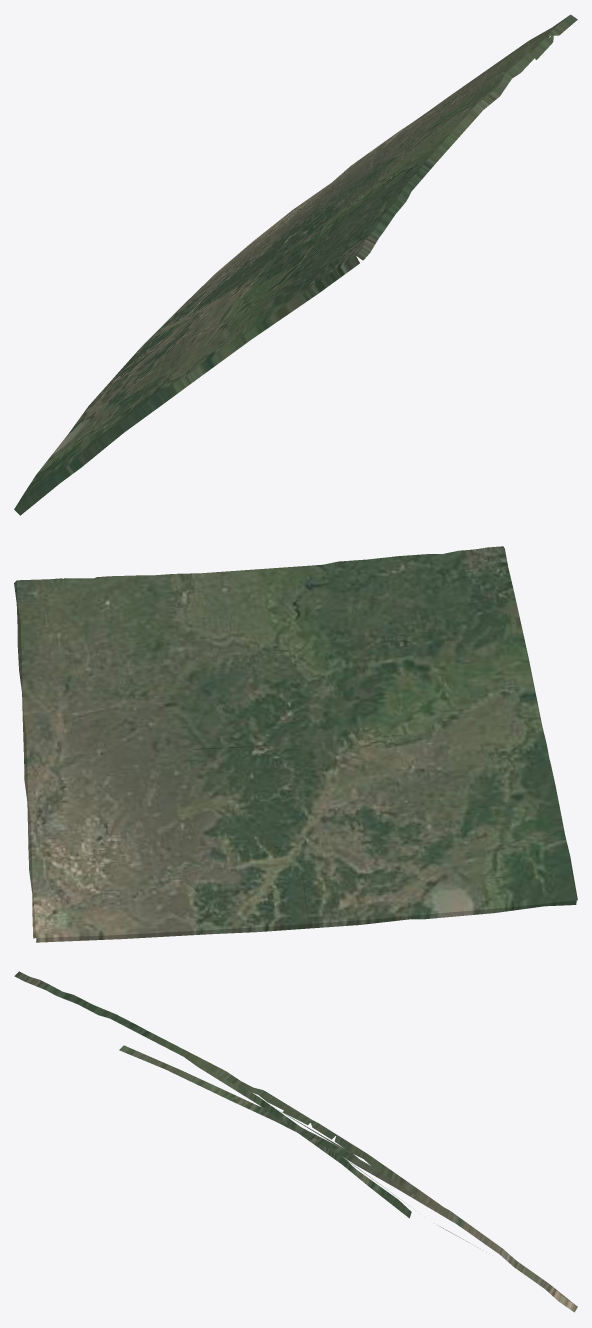
The picture shows the model from 3 angles, top to bottom: view 1: azimuth 30°, elevation 25°; view 2: azimuth 150°, elevation 25°; view 3: azimuth 270°, elevation 25°; orthographic projection. The views are drawn at different scales.
Bounding box in the file's own units: 952386 × 435080 × 900043.
1 material, 1 textured.
